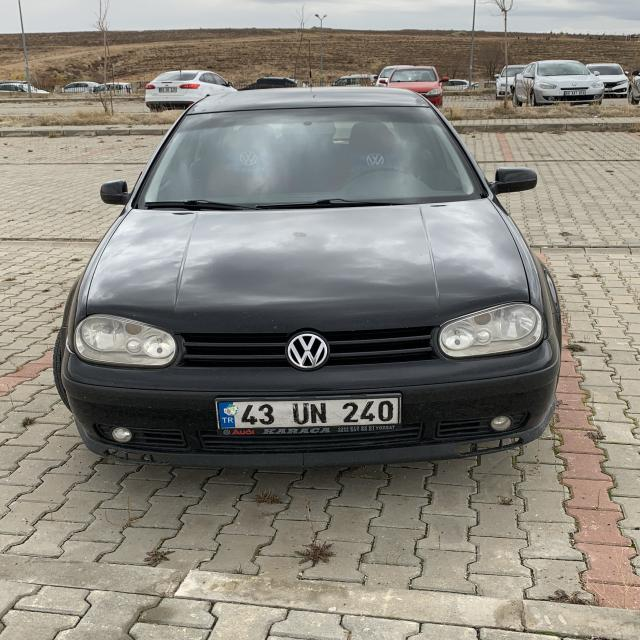license_plate: (216, 396, 400, 428)
